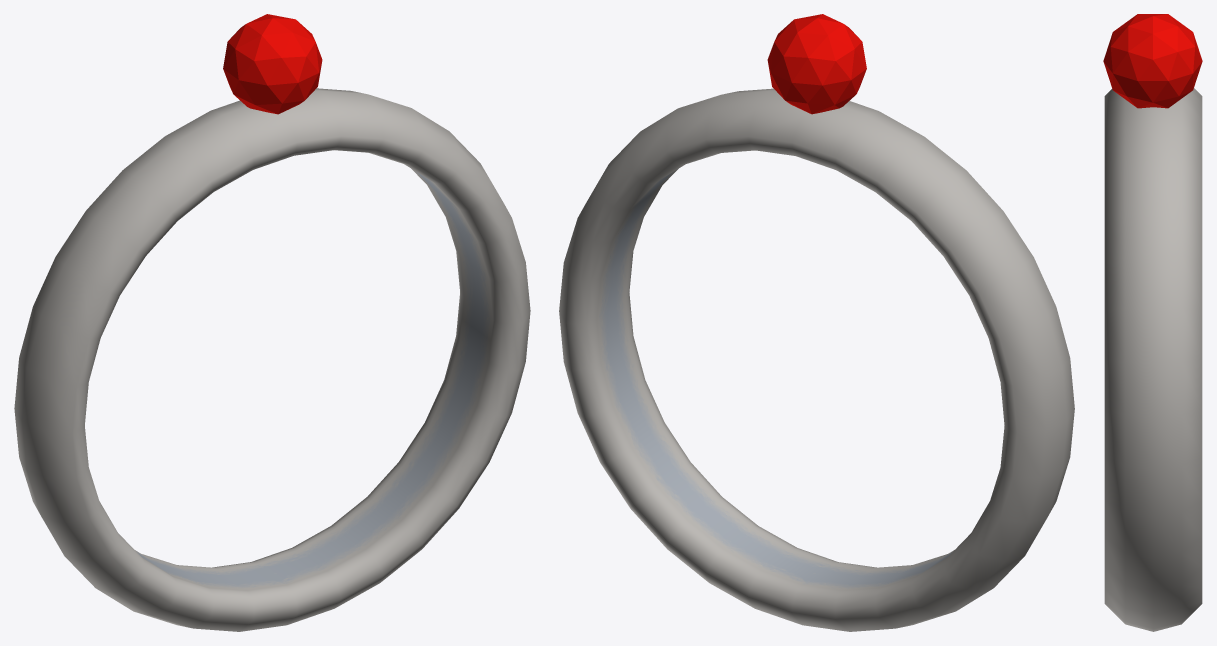
The model's file is ring.glb.
3 views of the same model, side by side, from view 1: azimuth 30°, elevation 25°; view 2: azimuth 150°, elevation 25°; view 3: azimuth 270°, elevation 25° (orthographic). The views are drawn at different scales.
Parts seen in each view (by area): view 1: ring, gem_red; view 2: ring, gem_red; view 3: ring, gem_red.
Boxes of the visible parts, <box> form: ring: <box>14,88,530,631</box>; gem_red: <box>223,14,322,114</box>; ring: <box>559,88,1074,631</box>; gem_red: <box>767,14,866,114</box>; ring: <box>1104,88,1202,631</box>; gem_red: <box>1103,14,1202,108</box>.
Size of the model in its own units: 40.99 by 47.24 by 7.21.
Materials: 2 (1 with a texture image).
